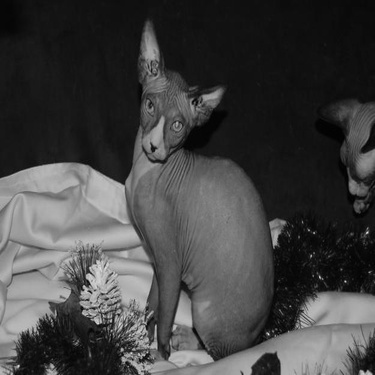cat: (127, 16, 277, 359)
